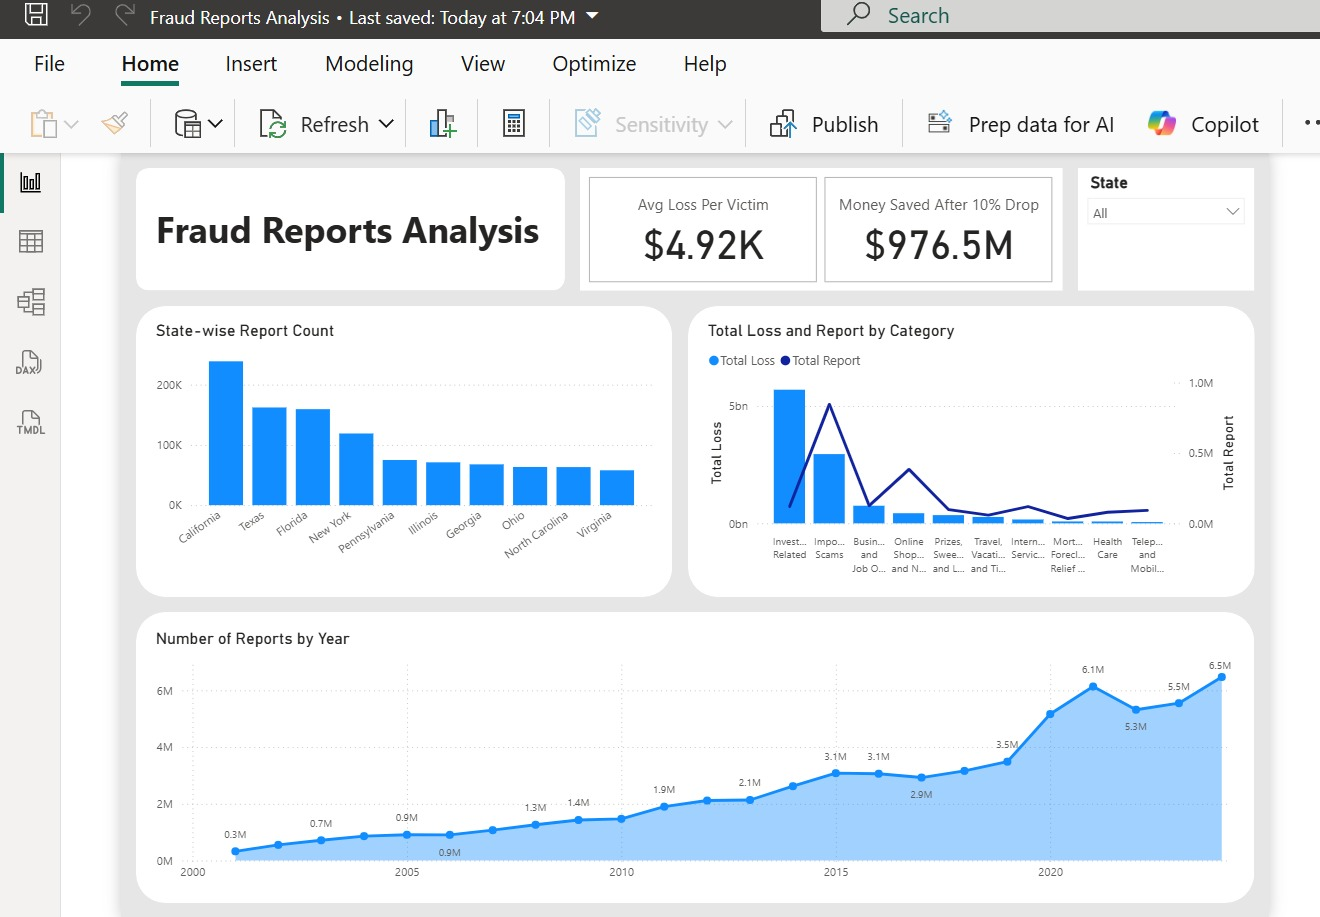

The dashboard page shown, as its layout file describes it:
{"tool":"powerbi","page":{"name":"Page 1","canvas":[1200,800],"ordinal":0},"visuals":[{"type":"shape","box":[16,480,1168,304],"z":0},{"type":"shape","box":[592,160,592,304],"z":1000},{"type":"shape","box":[16,160,560,304],"z":2000},{"type":"lineChart","title":"Number of Reports by Year","fields":{"Category":["2024_CSN_Report_Count.Year"],"Y":["Sum(2024_CSN_Report_Count.# of Reports)"]},"box":[32,496,1136,272],"z":3000},{"type":"lineStackedColumnComboChart","title":"Total Loss and Report by Category","fields":{"Category":["2024_CSN_Report_Type.Category"],"Y":["Max(2024_CSN_Report_Type.Total Loss)"],"Y2":["Max(2024_CSN_Report_Type. # of Reports  )"]},"box":[608,176,560,272],"z":4000},{"type":"cardVisual","fields":{"Data":["_measures.Avg Loss Per Victim","_measures.Money Saved After 10% Drop"]},"box":[480,16,504,128],"z":5000},{"type":"columnChart","title":"State-wise Report Count","fields":{"Category":["2024_CSN_State_Fraud_Reports_and_Losses.State"],"Y":["Sum(2024_CSN_State_Fraud_Reports_and_Losses.# of Reports)"]},"box":[32,176,528,272],"z":6000},{"type":"shape","box":[16,16,448,128],"z":6001},{"type":"textbox","box":[32,48,416,64],"z":6002},{"type":"slicer","fields":{"Values":["2024_CSN_State_Fraud_Reports_and_Losses.State"]},"box":[1000,16,184,128],"z":6003}]}

Visuals, with their boxes on the page's 1200x800 design canvas (x1, y1, x2, y2). These are canvas units, not pixel positions in the 1320x917 screenshot, which may show the page scaled, cropped or inside an application window:
shape: bbox(16, 480, 1184, 784)
shape: bbox(592, 160, 1184, 464)
shape: bbox(16, 160, 576, 464)
"Number of Reports by Year" lineChart: bbox(32, 496, 1168, 768)
"Total Loss and Report by Category" lineStackedColumnComboChart: bbox(608, 176, 1168, 448)
cardVisual - _measures.Avg Loss Per Victim x _measures.Money Saved After 10% Drop: bbox(480, 16, 984, 144)
"State-wise Report Count" columnChart: bbox(32, 176, 560, 448)
shape: bbox(16, 16, 464, 144)
textbox: bbox(32, 48, 448, 112)
slicer - 2024_CSN_State_Fraud_Reports_and_Losses.State: bbox(1000, 16, 1184, 144)
